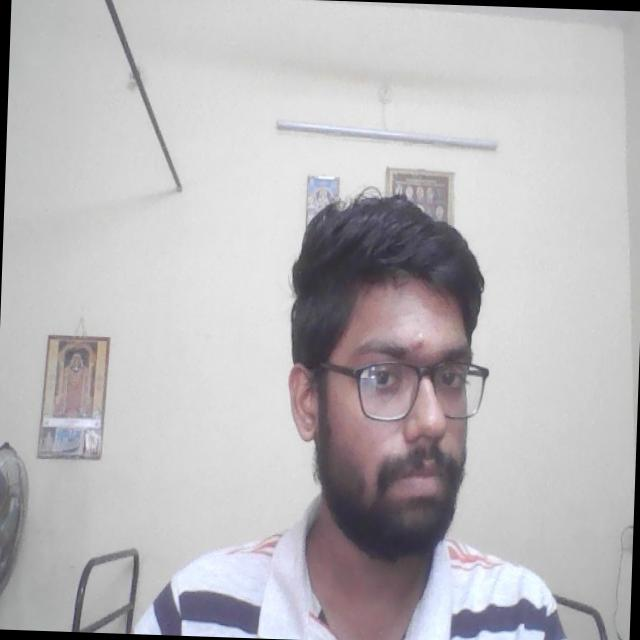Focused: (298, 275, 494, 534)
